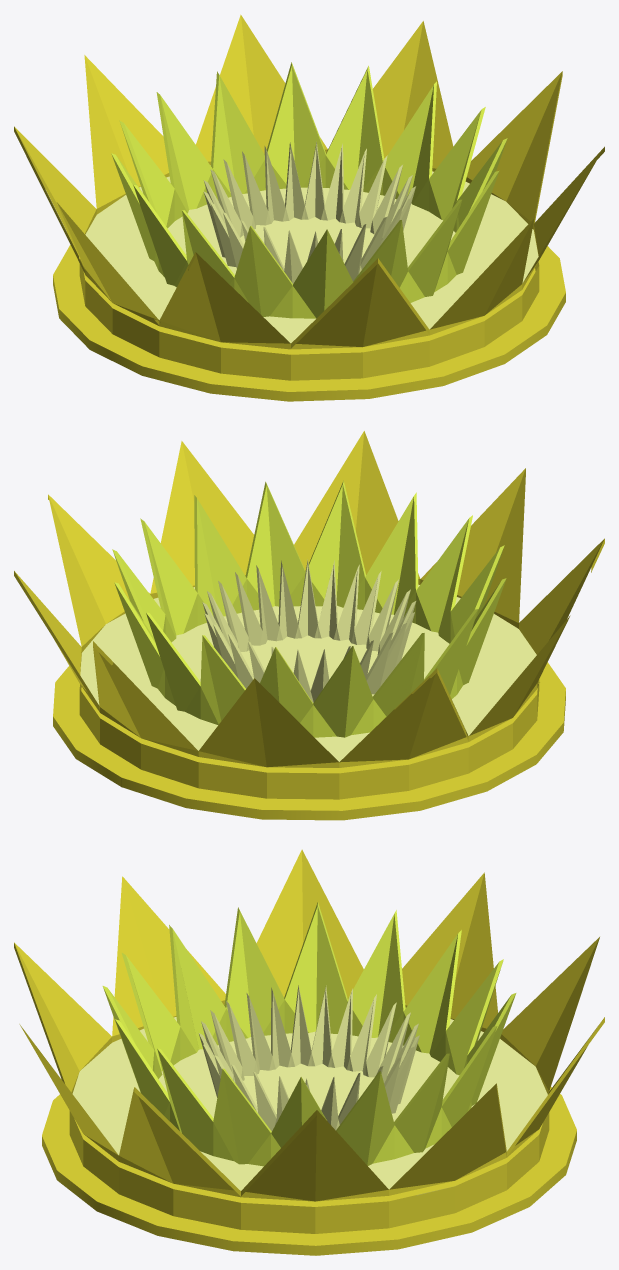
File: portal_abrir_000007.obj
3 renders of one model, top to bottom at view 1: azimuth 30°, elevation 25°; view 2: azimuth 150°, elevation 25°; view 3: azimuth 270°, elevation 25°, orthographic. The views are drawn at different scales.
Parts seen in each view (by area): view 1: pCylinder1, Cylinder, Cylinder.001; view 2: pCylinder1, Cylinder, Cylinder.001; view 3: pCylinder1, Cylinder, Cylinder.001.
Part boxes in pixels (x1,y1,x2,y2): pCylinder1: (14, 14, 604, 401); Cylinder: (111, 62, 507, 318); Cylinder.001: (203, 142, 415, 283); pCylinder1: (14, 431, 604, 820); Cylinder: (112, 480, 506, 737); Cylinder.001: (202, 559, 416, 702); pCylinder1: (14, 849, 604, 1255); Cylinder: (102, 902, 516, 1166); Cylinder.001: (198, 985, 419, 1131).
Bounding box in the file's own units: 2.17 × 0.6337 × 2.08.
Materials: 4 (4 with a texture image).
